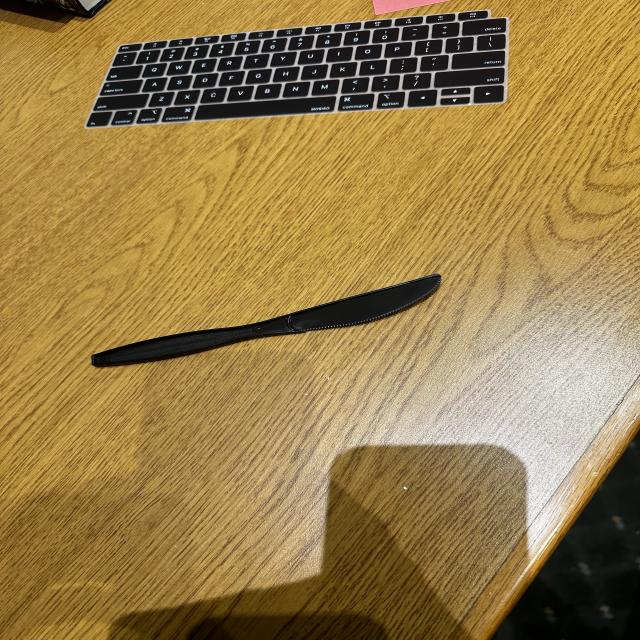knife: (74, 254, 455, 382)
